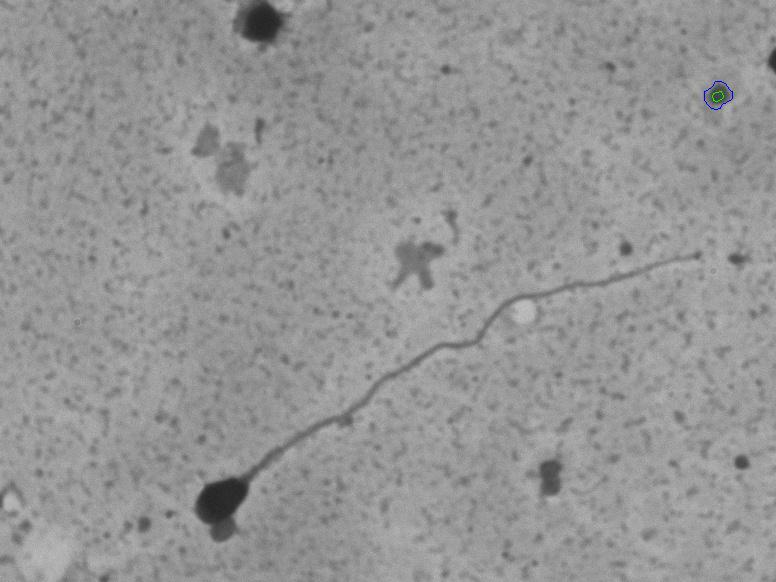Normal: (183, 238, 708, 531)
